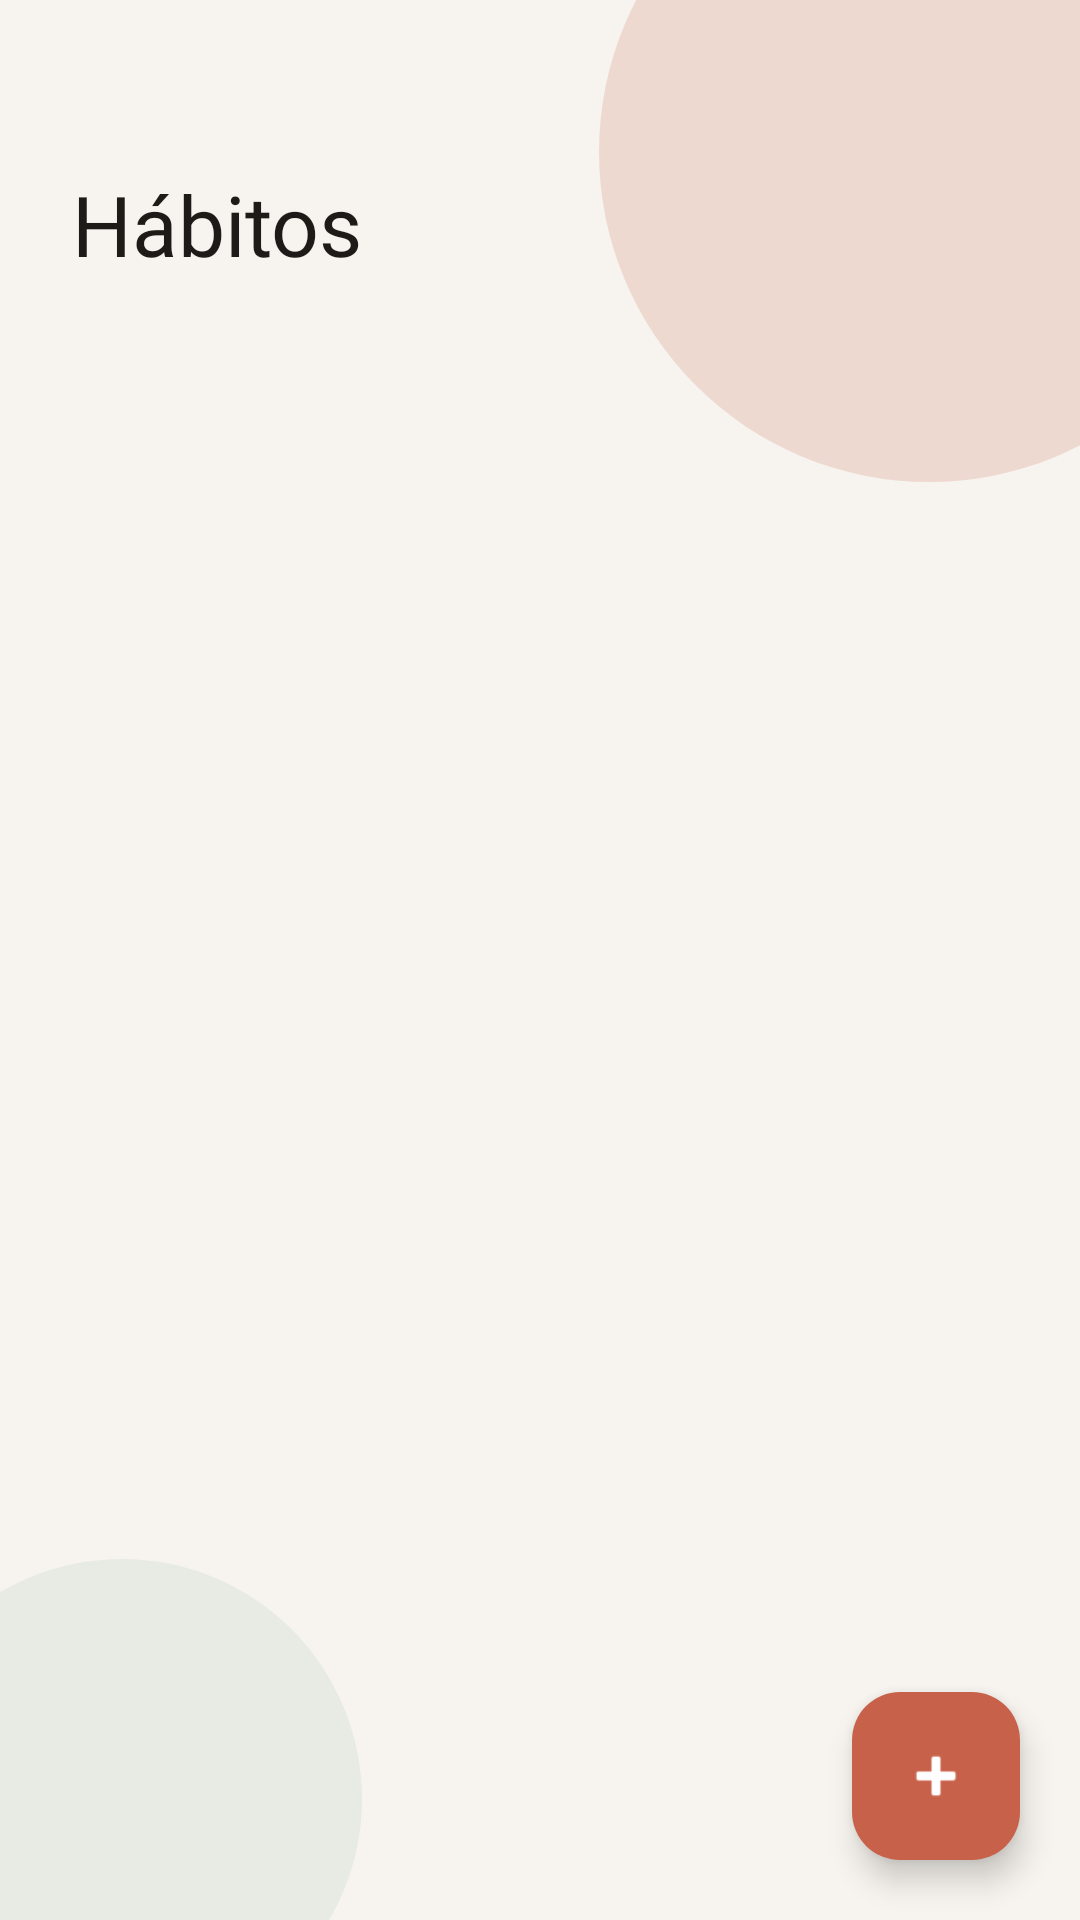

Where icons sit on this 1080×1920 app screen, as region(x1, y1, x2, y2):
Agregar Hábito: region(852, 1692, 1020, 1860)
